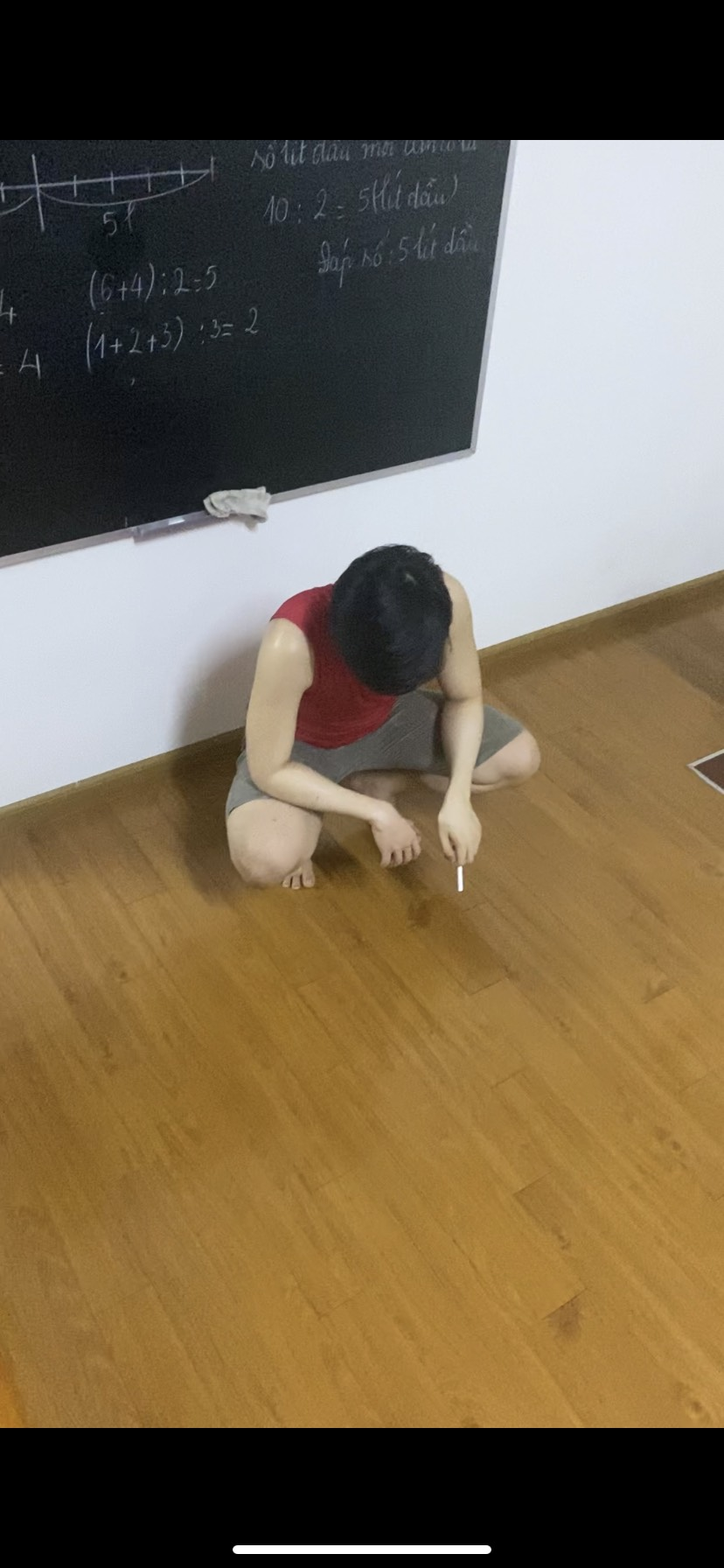cigarette: (453, 864, 470, 899)
person: (219, 546, 551, 907)
